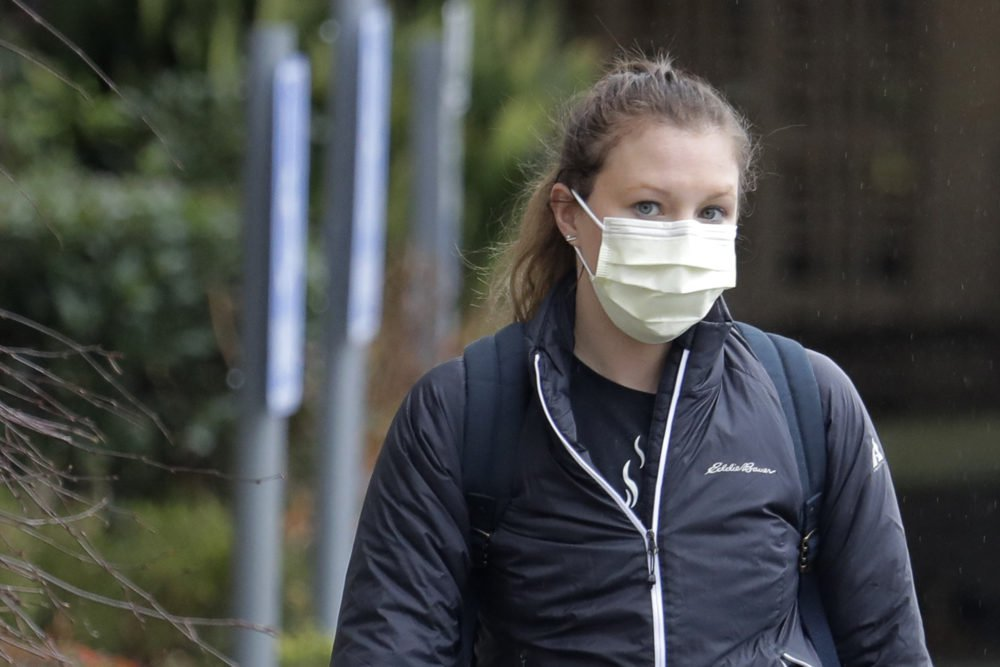mask: (527, 62, 804, 386)
